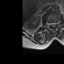CCS_normal: (52, 21, 54, 28)
LFS_stenosis: (56, 21, 58, 26)
LLS_normal: (54, 21, 56, 27)
RFS_stenosis: (49, 21, 50, 27)
RLS_normal: (50, 21, 52, 27)
